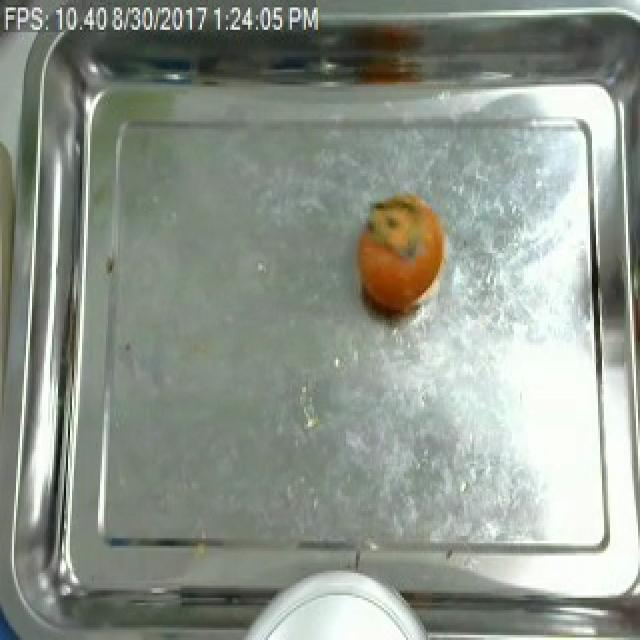Fruit: (352, 189, 452, 315)
